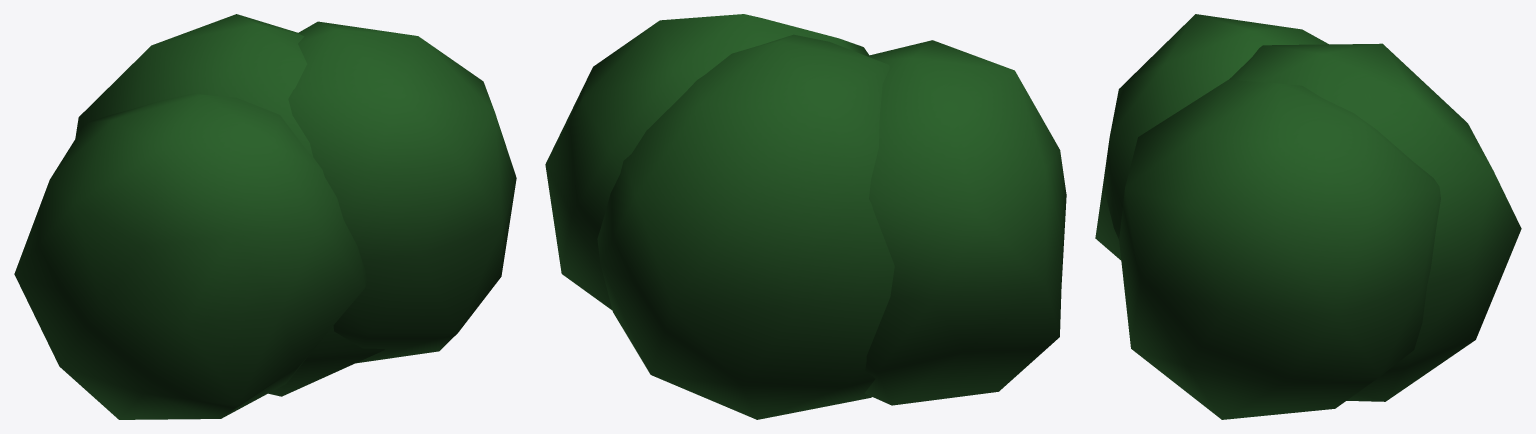
Rendered from bush_a.glb.
The picture shows the model from 3 angles, left to right: view 1: azimuth 30°, elevation 25°; view 2: azimuth 150°, elevation 25°; view 3: azimuth 270°, elevation 25°; orthographic projection. The views are drawn at different scales.
Parts seen in each view (by area): view 1: bush, bush.003, bush.002; view 2: bush.002, bush, bush.003; view 3: bush.003, bush.002, bush.
Part boxes in pixels (x1,y1,x2,y2): bush: (14,93,367,419); bush.003: (288,21,516,363); bush.002: (75,14,384,396); bush.002: (597,34,894,419); bush: (864,40,1066,405); bush.003: (545,14,868,310); bush.003: (1119,79,1440,419); bush.002: (1229,43,1521,401); bush: (1095,14,1328,260).
Bounding box in the file's own units: 1.13 × 0.7474 × 0.9289.
